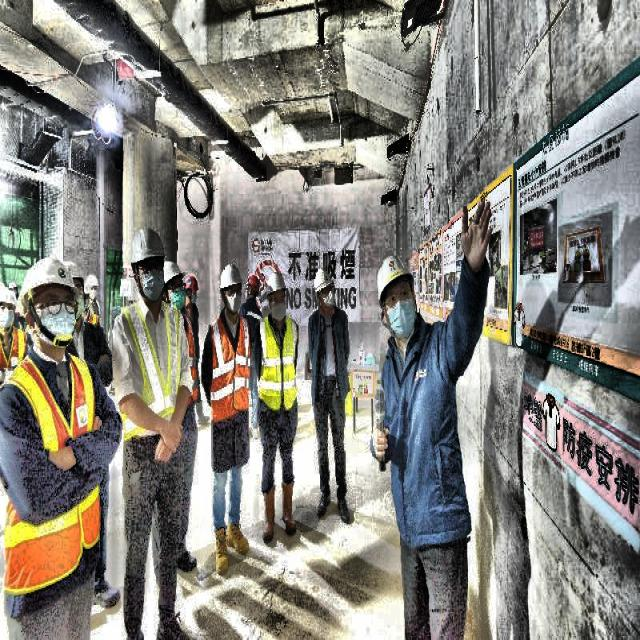safety_helmet: (18, 253, 78, 306), (374, 252, 417, 306), (127, 225, 168, 269)
safety_jacket: (2, 350, 104, 601), (107, 296, 191, 446), (206, 310, 254, 427), (255, 312, 301, 416)
